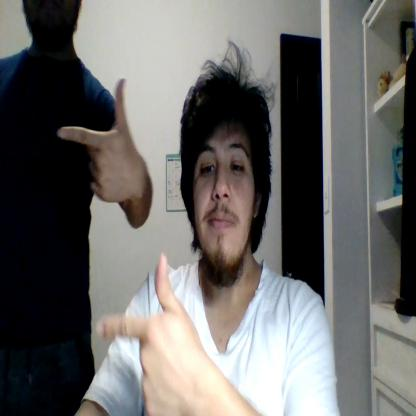G: (95, 253, 201, 416), (58, 79, 134, 202)
